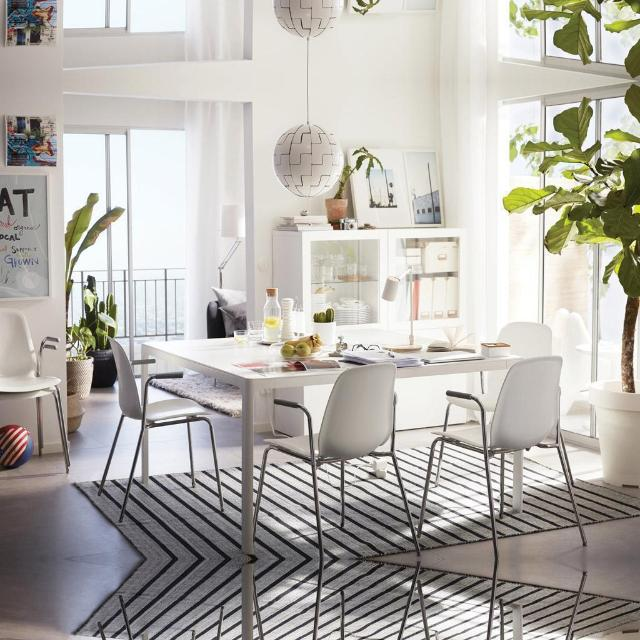chair: (418, 355, 586, 557), (254, 362, 420, 557), (98, 338, 224, 521), (0, 308, 70, 471)
curtain: (439, 80, 498, 339), (439, 0, 497, 80)
light: (272, 81, 344, 196), (273, 0, 344, 79)
plant: (504, 98, 640, 485), (325, 146, 384, 222), (80, 275, 118, 386), (66, 318, 95, 398)
rug: (119, 466, 242, 558), (119, 559, 242, 640), (319, 456, 414, 557), (319, 559, 414, 640), (420, 445, 490, 548), (255, 460, 319, 558), (499, 458, 576, 536), (255, 559, 319, 640), (420, 568, 490, 640), (499, 581, 576, 640), (574, 480, 640, 522), (574, 594, 640, 636), (396, 446, 429, 522), (76, 595, 128, 639), (76, 478, 128, 521), (403, 594, 426, 640)
shelf: (272, 226, 465, 332)
table: (141, 338, 341, 554)
wall-art: (0, 172, 50, 298), (350, 149, 411, 226), (404, 150, 442, 224), (5, 114, 59, 166), (5, 0, 59, 46)
